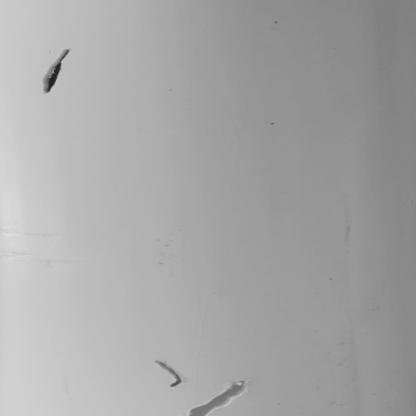fengxi: (184, 378, 248, 416), (155, 360, 184, 387)
kongdong: (43, 47, 69, 93)
